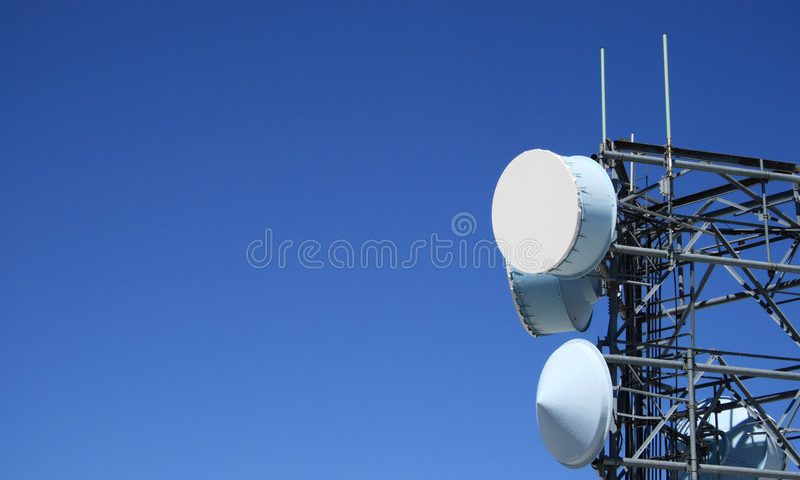ba: (467, 139, 628, 281), (496, 253, 601, 341)
